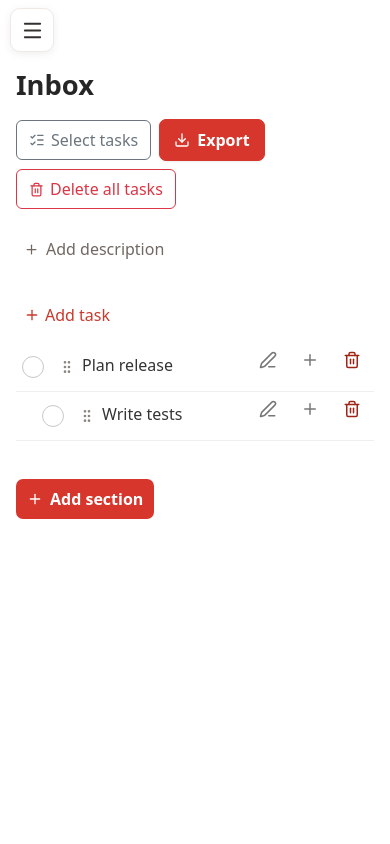
Test: TaskApp › deletes existing subtasks when their mobile section is closed
The image size is (390, 844).
Click the button "Plan release". click: (164, 365)
box: [82, 345, 246, 385]
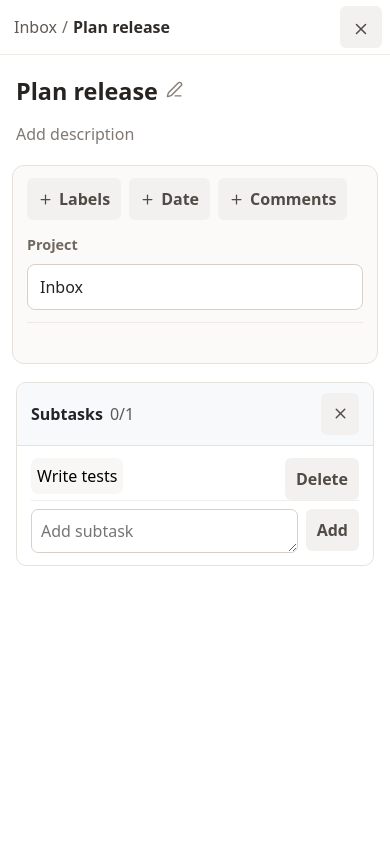
Click the button named "Delete all subtasks and hide section". click: (340, 414)
box: [321, 393, 359, 435]
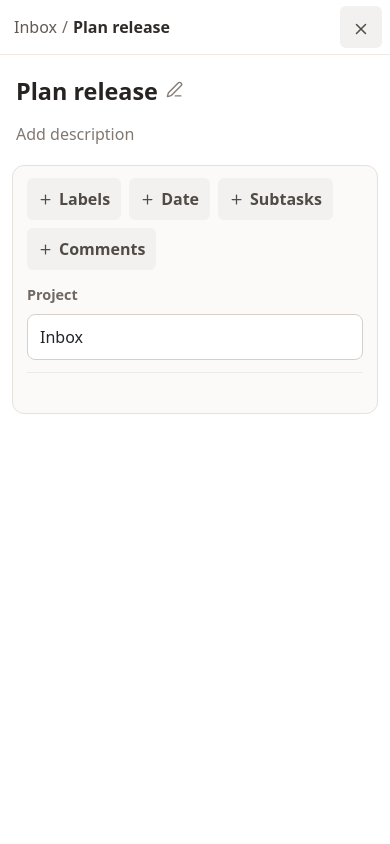
Expected: the button "Subtasks" is shown, [218, 178, 333, 220]
